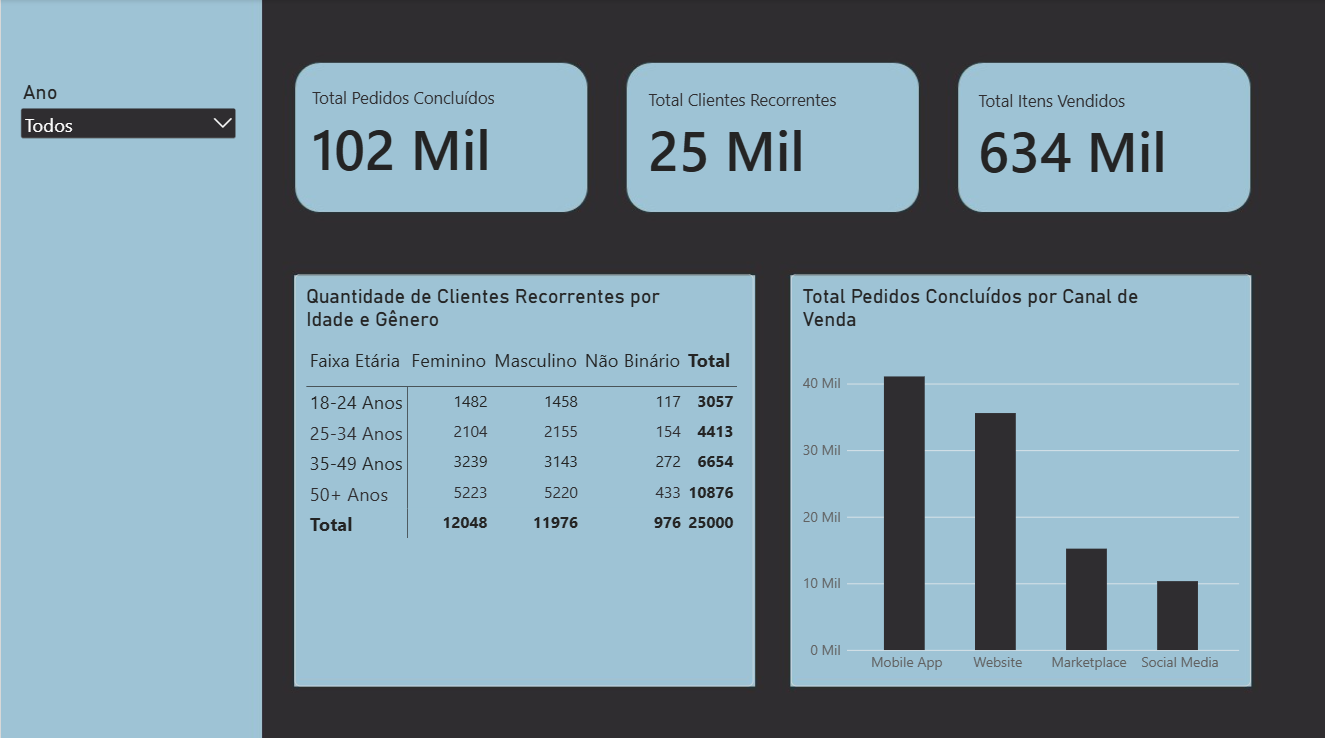

The dashboard page shown, as its layout file describes it:
{"tool":"powerbi","page":{"name":"Performance e Retenção","canvas":[1920,1080],"ordinal":0},"visuals":[{"type":"cardVisual","fields":{"Data":["FatoPedidos.Total Clientes Recorrentes"]},"box":[921.1,68.8,376,262],"z":0},{"type":"pivotTable","title":"Quantidade de Clientes Recorrentes por Idade e Gênero","fields":{"Columns":["DimCliente.gender"],"Rows":["DimCliente.Faixa Etária"],"Values":["_Medidas.Total Clientes Recorrentes"]},"box":[425,398,664,597],"z":1000},{"type":"clusteredColumnChart","fields":{"Category":["FatoPedidos.sales_channel"],"Y":["_Medidas.Total Pedidos Concluídos"]},"box":[1143.7,398.1,666,597.2],"z":2000},{"type":"cardVisual","fields":{"Data":["_Medidas.Total Itens Vendidos"]},"box":[1398,70,376,262],"z":3000},{"type":"cardVisual","fields":{"Data":["_Medidas.Total Pedidos Concluídos"]},"box":[435,67.7,376,262],"z":4000},{"type":"slicer","fields":{"Values":["FatoPedidos.order_date.Variação.Hierarquia de datas.Ano"]},"box":[23.5,117.6,322.1,948.3],"z":5000}]}

Visuals, with their boxes in screenshot pixels (x1, y1, x2, y2), scaled from the page's 1920x1080 canvas onto the 1325x738 screenshot:
cardVisual - FatoPedidos.Total Clientes Recorrentes: [x1=636, y1=47, x2=895, y2=226]
"Quantidade de Clientes Recorrentes por Idade e Gênero" pivotTable: [x1=293, y1=272, x2=752, y2=680]
clusteredColumnChart - FatoPedidos.sales_channel x _Medidas.Total Pedidos Concluídos: [x1=789, y1=272, x2=1249, y2=680]
cardVisual - _Medidas.Total Itens Vendidos: [x1=965, y1=48, x2=1224, y2=227]
cardVisual - _Medidas.Total Pedidos Concluídos: [x1=300, y1=46, x2=560, y2=225]
slicer - FatoPedidos.order_date.Variação.Hierarquia de datas.Ano: [x1=16, y1=80, x2=238, y2=728]
